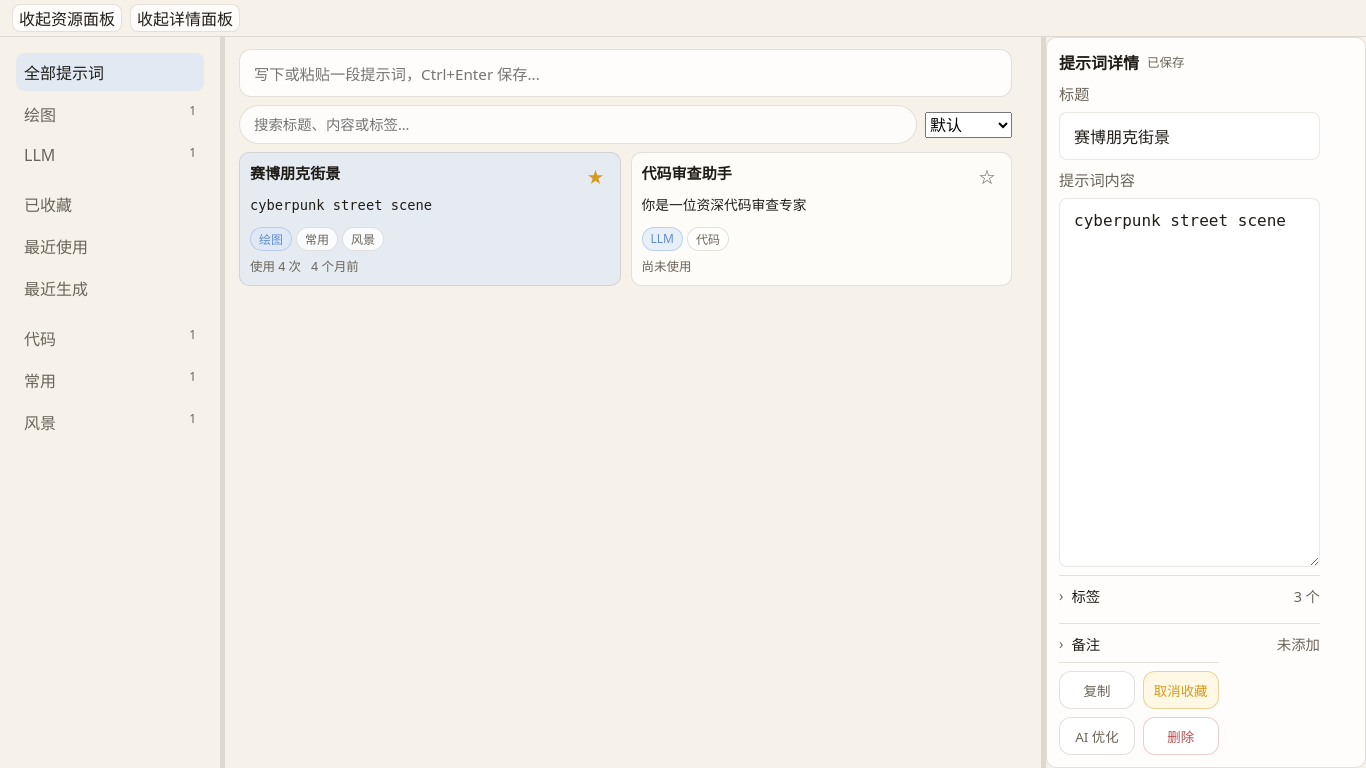
Scenario: Library › filters prompt cards by tag
Expected: the button "赛博朋克街景" is shown, top-left (250, 163), bottom-right (576, 275)
Expected: the button "代码审查助手 你是一位资深代码审查专家 LLM 代码 尚未使用" is shown, top-left (642, 163), bottom-right (967, 275)
Step 1. Click the tab "LLM 1" → {"x": 110, "y": 155}, box top-left (16, 137), bottom-right (204, 173)
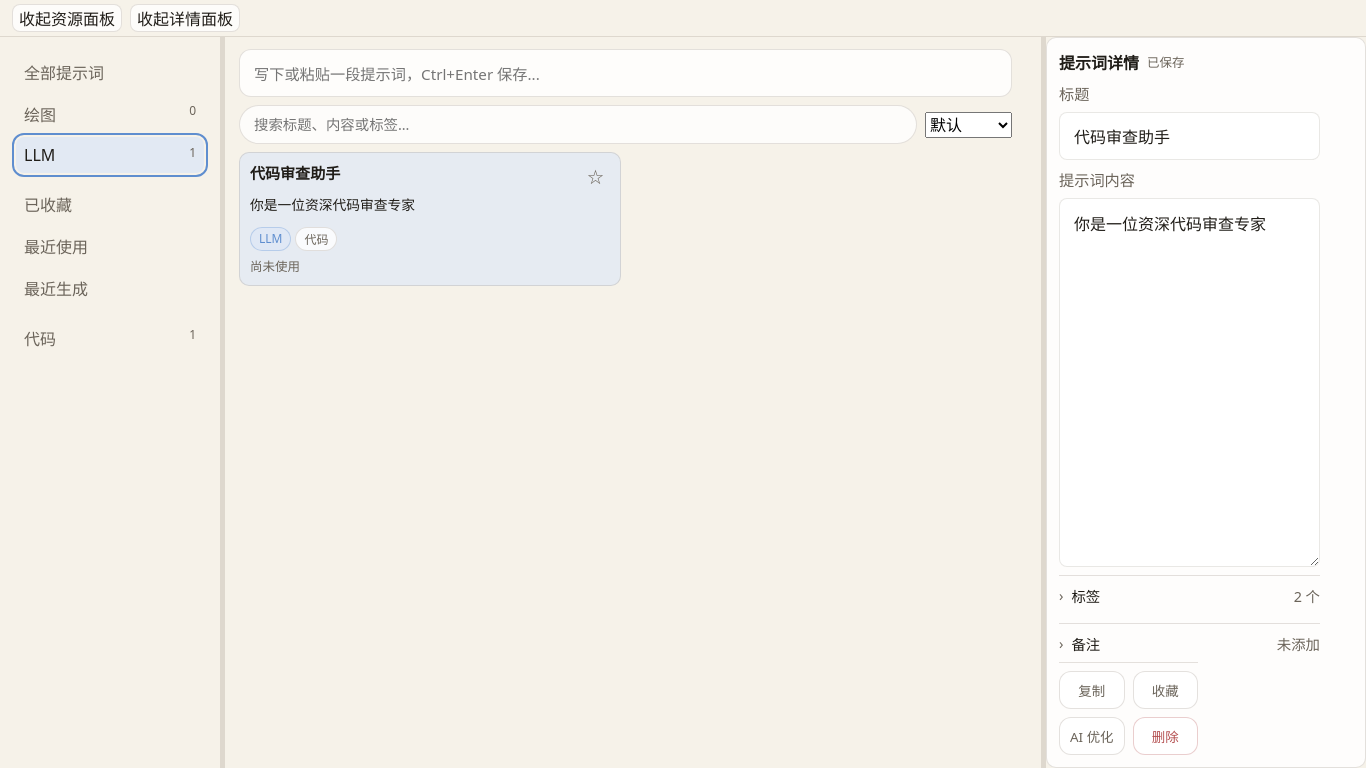
Expected: the button "代码审查助手 你是一位资深代码审查专家 LLM 代码 尚未使用" is shown, top-left (250, 163), bottom-right (576, 275)
Expected: the button "赛博朋克街景" is gone
